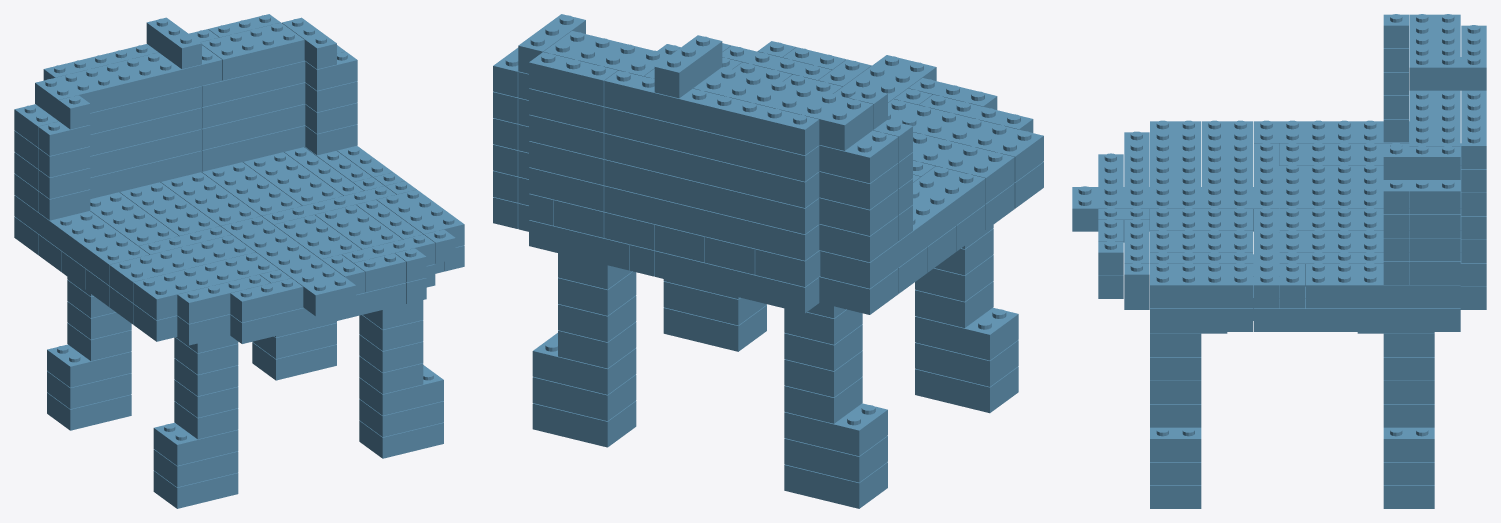
Rendered from 160_chair_L5.glb.
The picture shows the model from 3 angles, left to right: view 1: azimuth 30°, elevation 25°; view 2: azimuth 150°, elevation 25°; view 3: azimuth 270°, elevation 25°; orthographic projection. The views are drawn at different scales.
Bounding box in the file's own units: 14.98 × 16.13 × 15.98.
